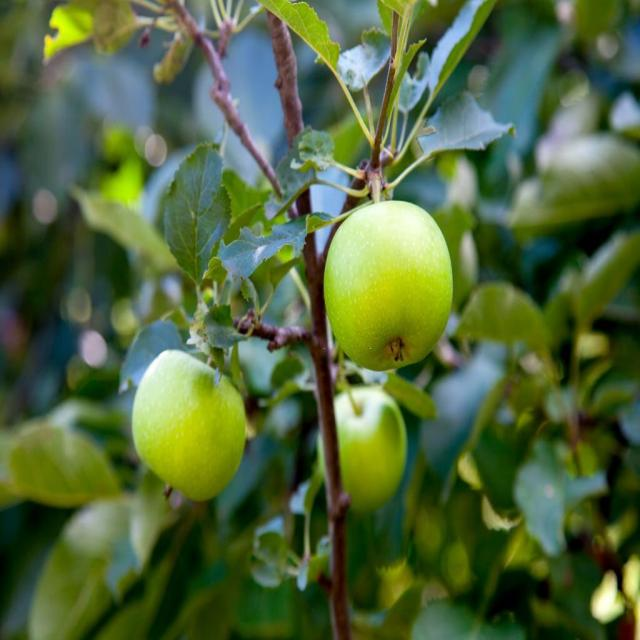Green Apple: (324, 203, 452, 373), (133, 343, 248, 506), (323, 383, 408, 510)
